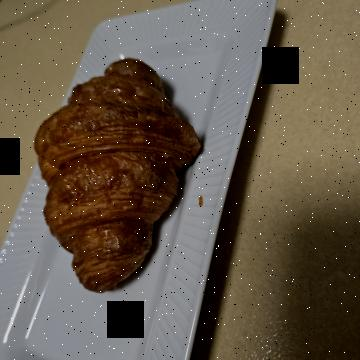croissant: (47, 157, 302, 339)
